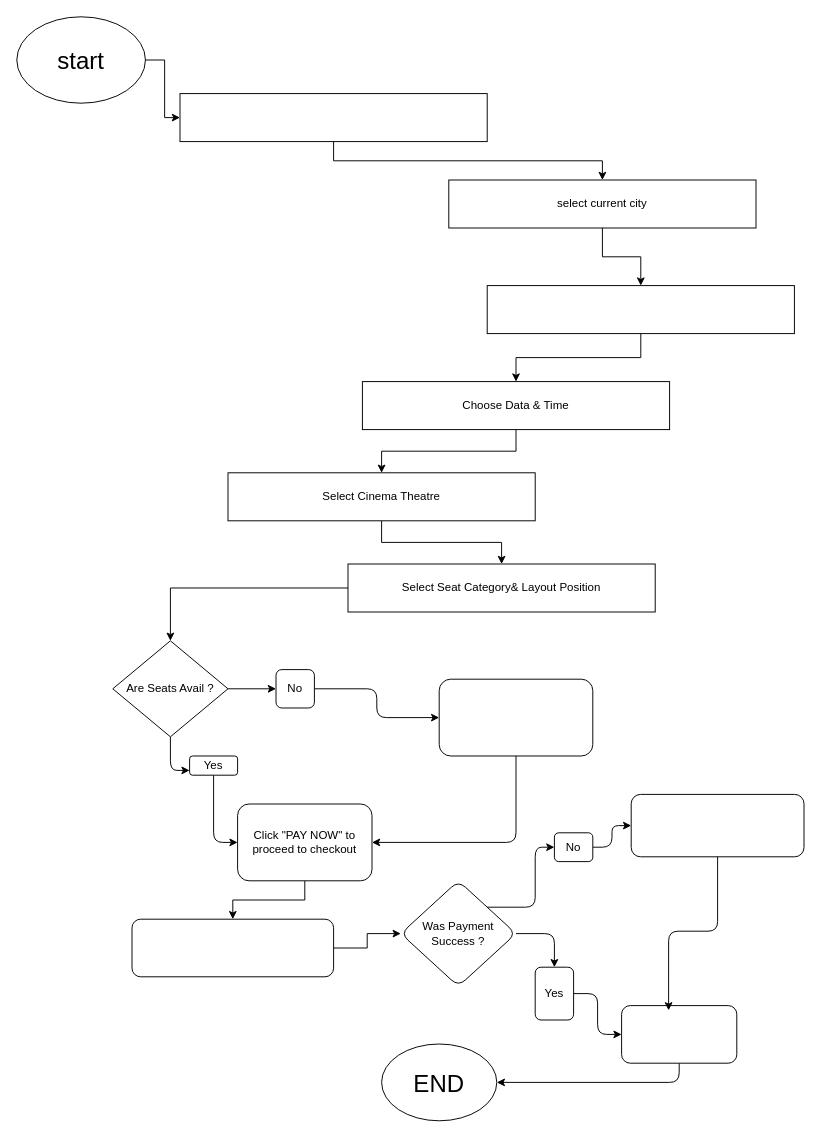
Some shapes in this 821 by 1138 pixel diagram are drawn without their labels. The centre of each missing label's shape, as x and y in pixels:
browse & Select Movie: (640,309)
Display Error: "Seats already booked. Please select again.": (515,717)
Display: "Transaction Failed. Retry Payment": (717,825)
Generate Ticket and Send Confirmation via Email/SMS: (679,1034)
open book my show App: (333,117)
Select Payment Mode (UPI,Card,NetBank): (232,947)
